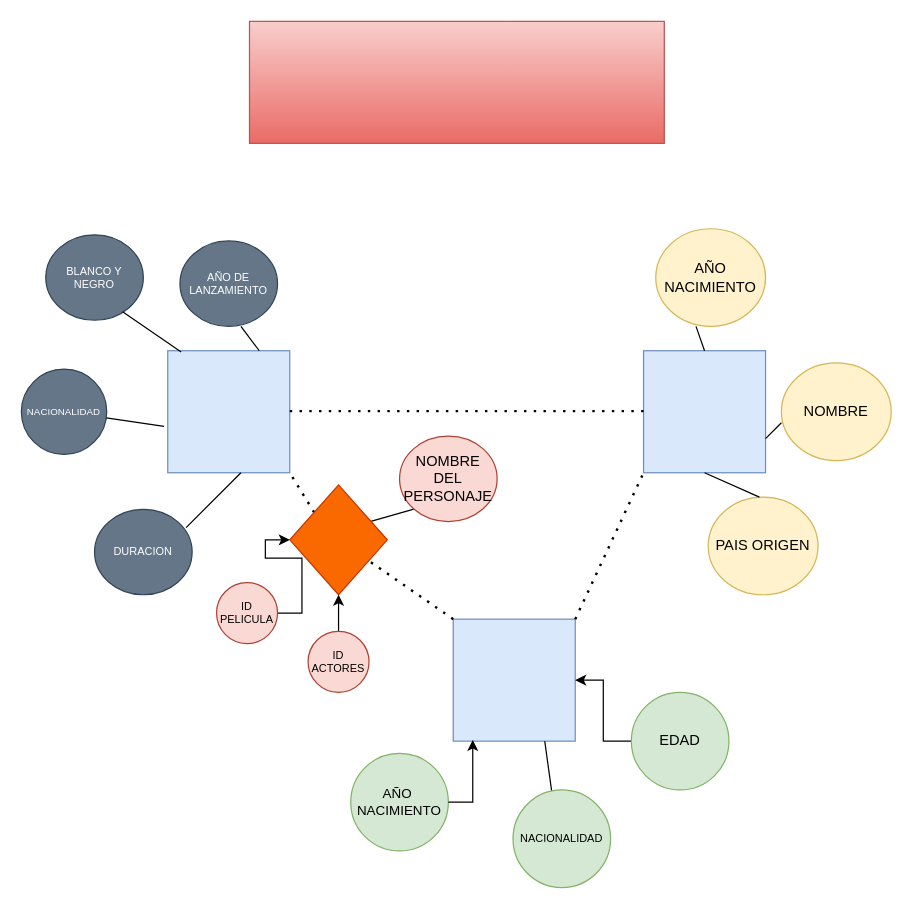
Some shapes in this 913 by 909 pixel diagram are drawn without their labels. The shapes that lost their labels are listed below. From the top down, each one's box as (x1, y1, x2, y2) in pixels, then its label:
(248, 20, 664, 143): CONCEPTO DE UNA BASE DE DATOS
(167, 350, 290, 473): PELICULAS
(642, 350, 766, 473): DIRECTORES
(289, 484, 387, 595): PERSONAJES
(452, 618, 575, 741): ACTORES
